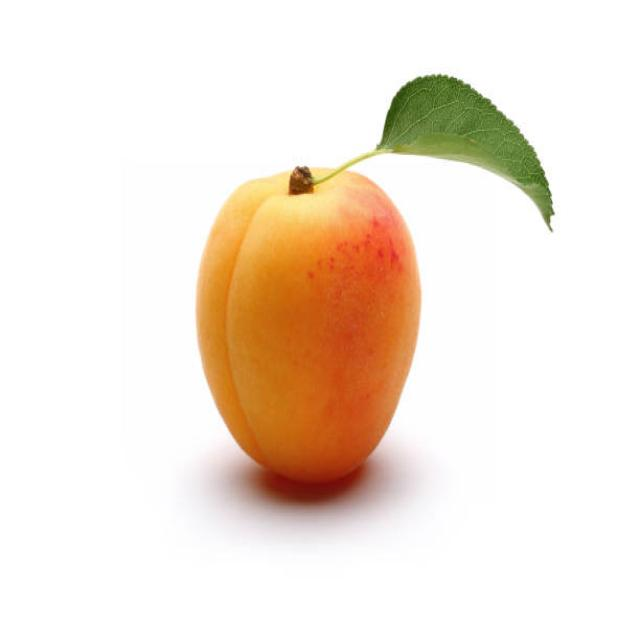kayisi: (192, 161, 416, 496)
kayisi-yapragi: (373, 56, 562, 178)
